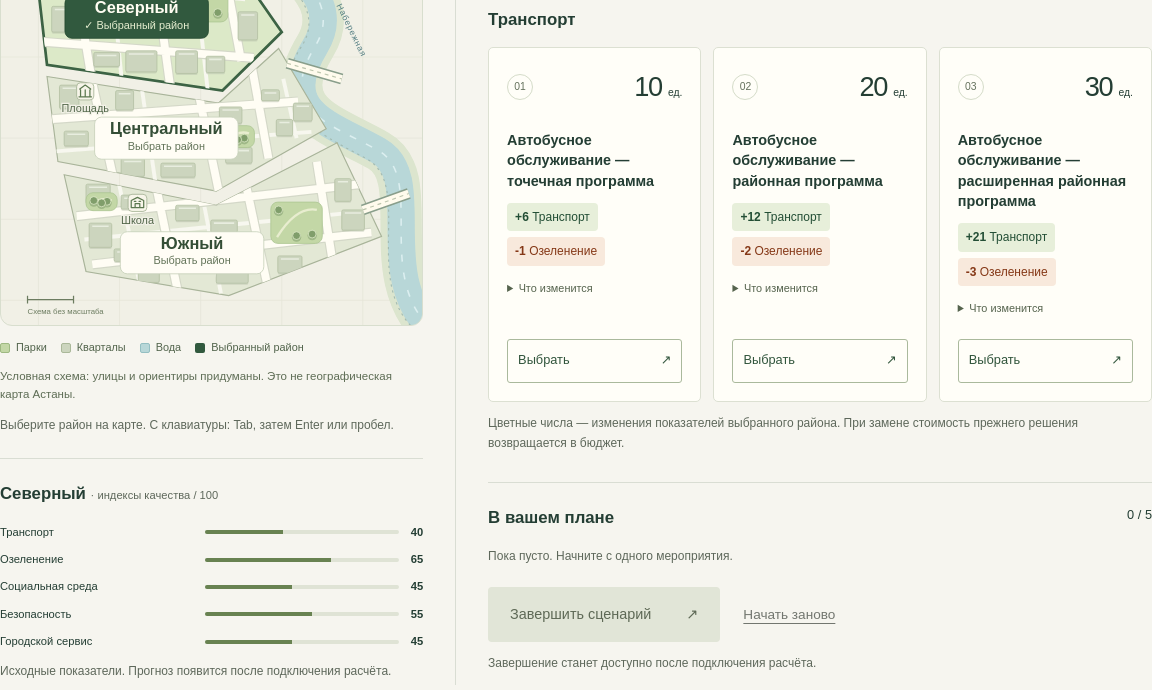
Test: preserves keyboard focus when the next-direction button disappears
The width and height of the screenshot is (1152, 690).
(page scrolled)
Click the button "Выбрать ↗" below "-1": coordinates (595, 361) [507,339,682,383]
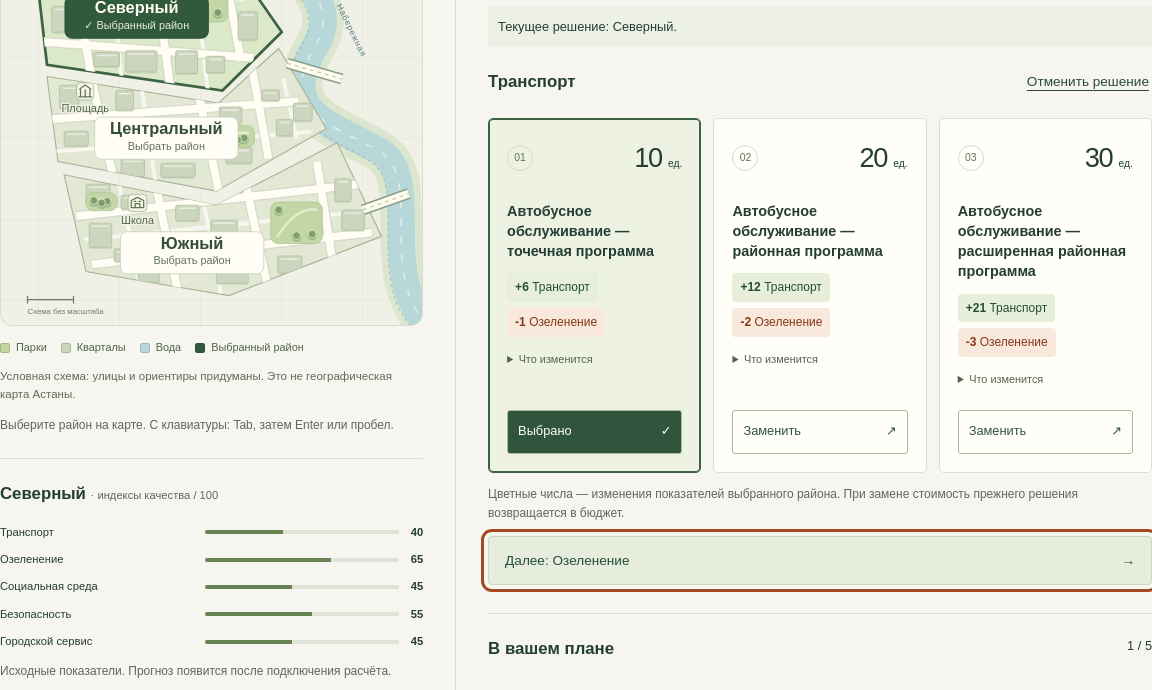
Press Enter
(page scrolled)
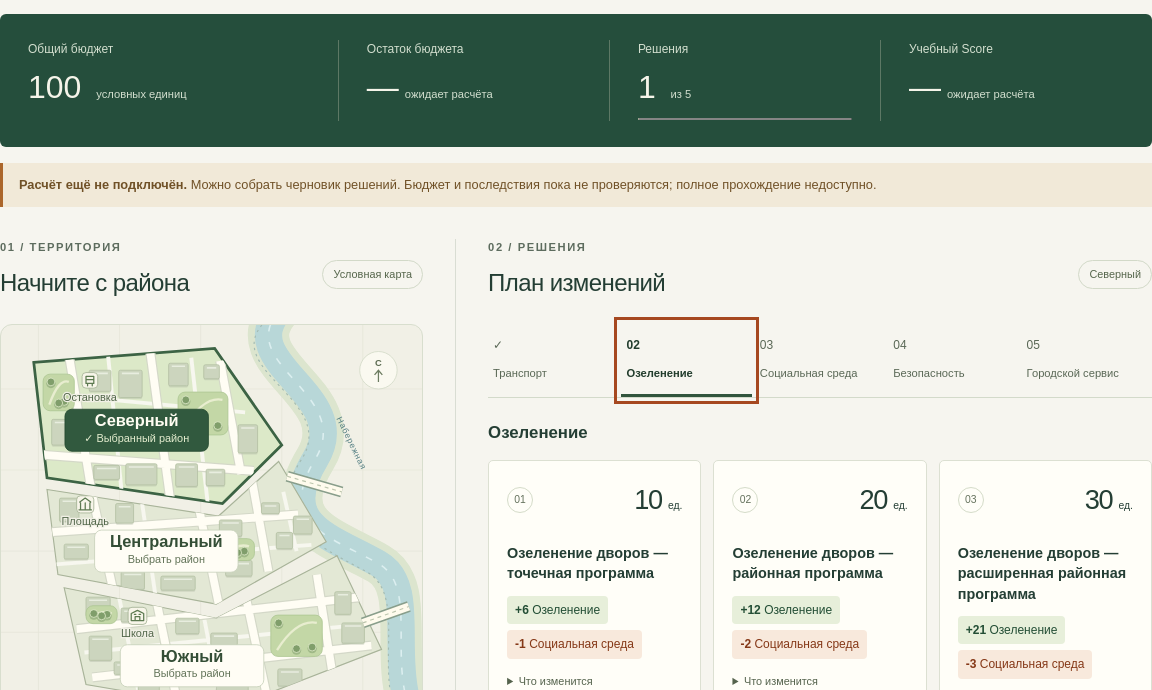
Now the button "Далее: Озеленение" is gone
